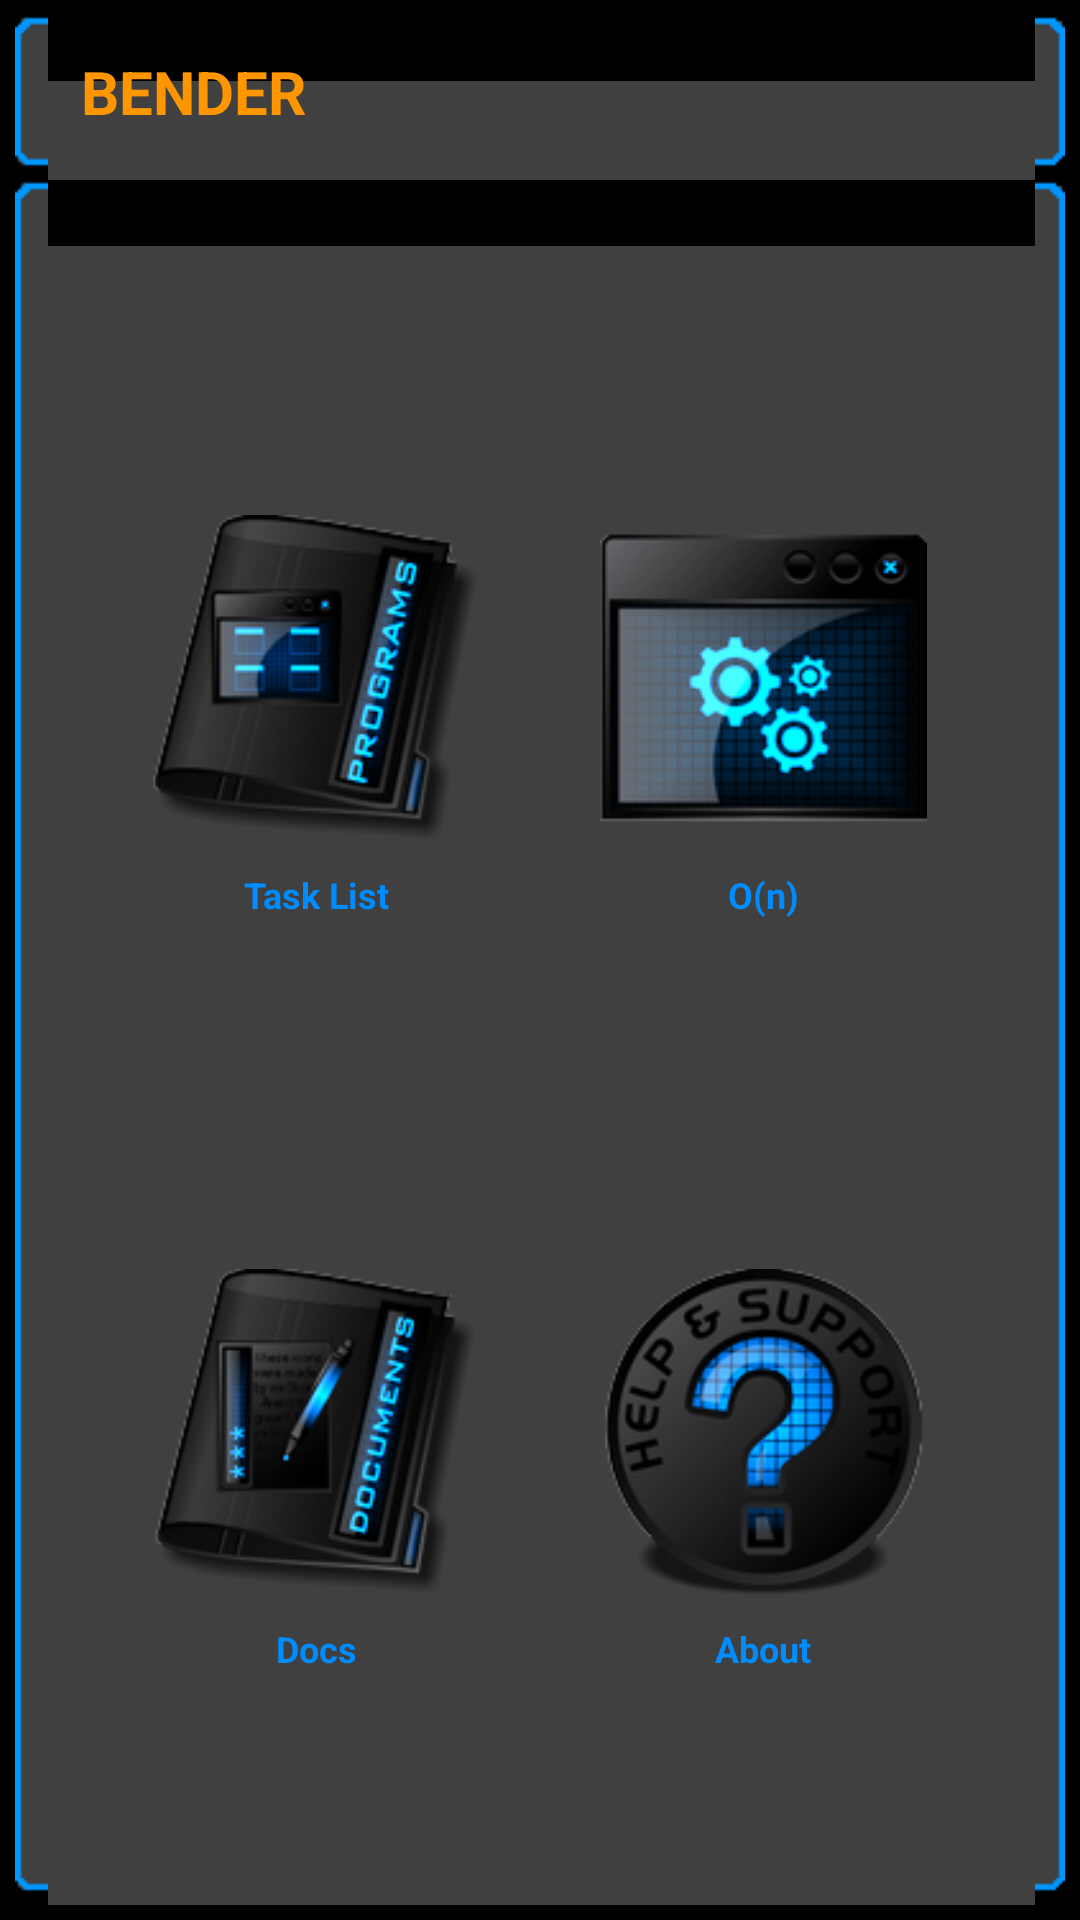

Icon bounding boxes for this 1080x1920 phone screenshot, format [left=x1, top=y1, right=x2, bottom=y2]:
referenceblue: [left=156, top=1269, right=465, bottom=1583]
